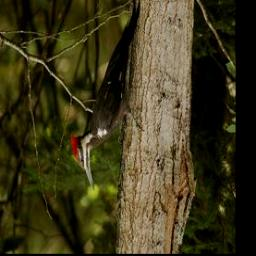Woodpecker: (70, 0, 148, 192)
